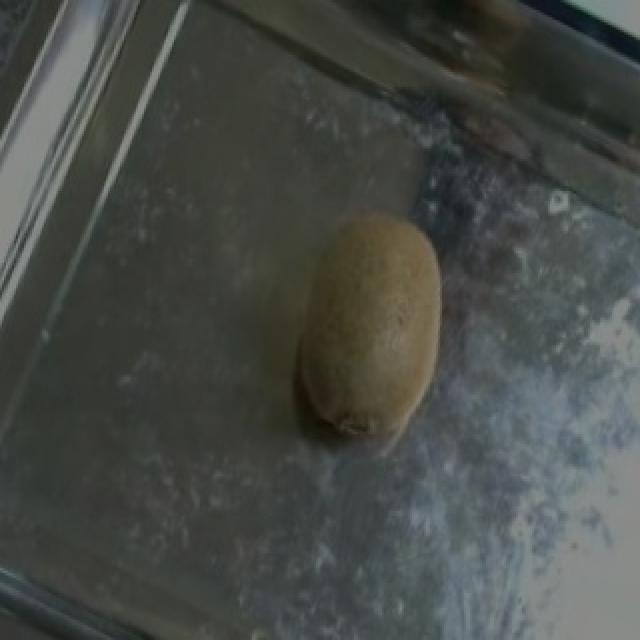Fruit: (252, 169, 496, 464)
